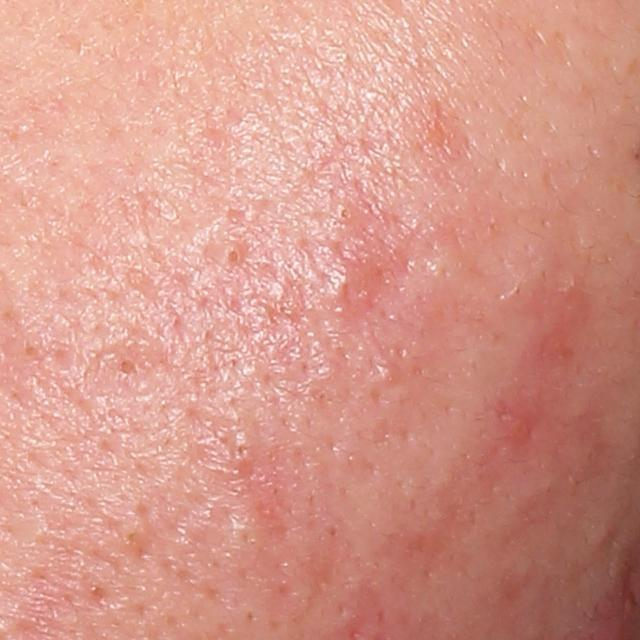comedo: (202, 237, 253, 273), (584, 514, 619, 551), (227, 432, 260, 467), (370, 363, 398, 388)
